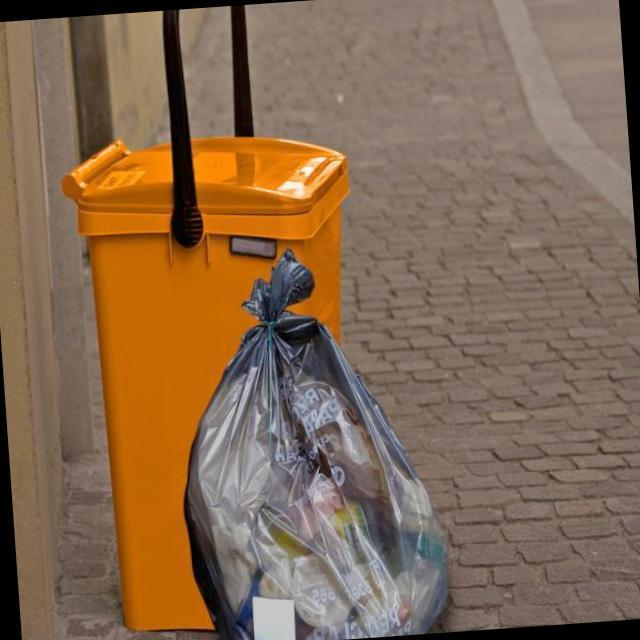garbage: (88, 225, 454, 640)
